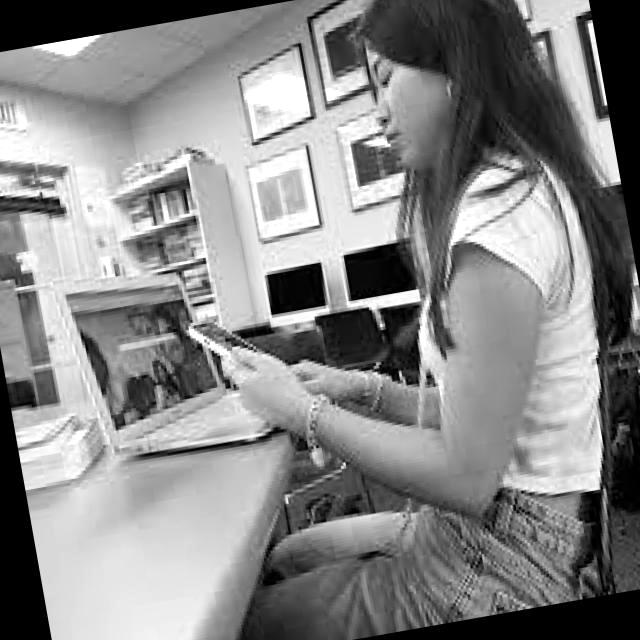phone: (182, 308, 260, 369)
